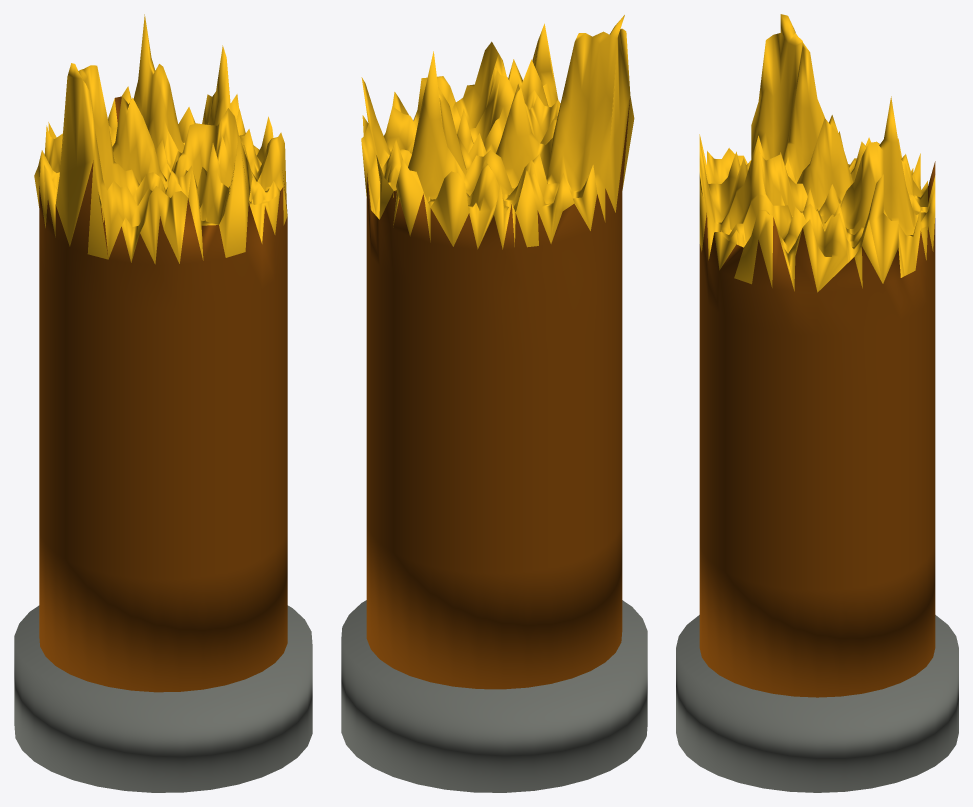
Rendered from pillar.fbx.
3 renders of one model, left to right at view 1: azimuth 30°, elevation 25°; view 2: azimuth 150°, elevation 25°; view 3: azimuth 270°, elevation 25°, orthographic. The views are drawn at different scales.
Visible parts, largest first — view 1: 円柱.004; view 2: 円柱.004; view 3: 円柱.004.
Boxes of the visible parts, left/top/right/bottom form: 円柱.004: left=14, top=14, right=312, bottom=792; 円柱.004: left=341, top=15, right=647, bottom=792; 円柱.004: left=676, top=14, right=958, bottom=792.
Size of the model in its own units: 600 by 1566 by 600.
